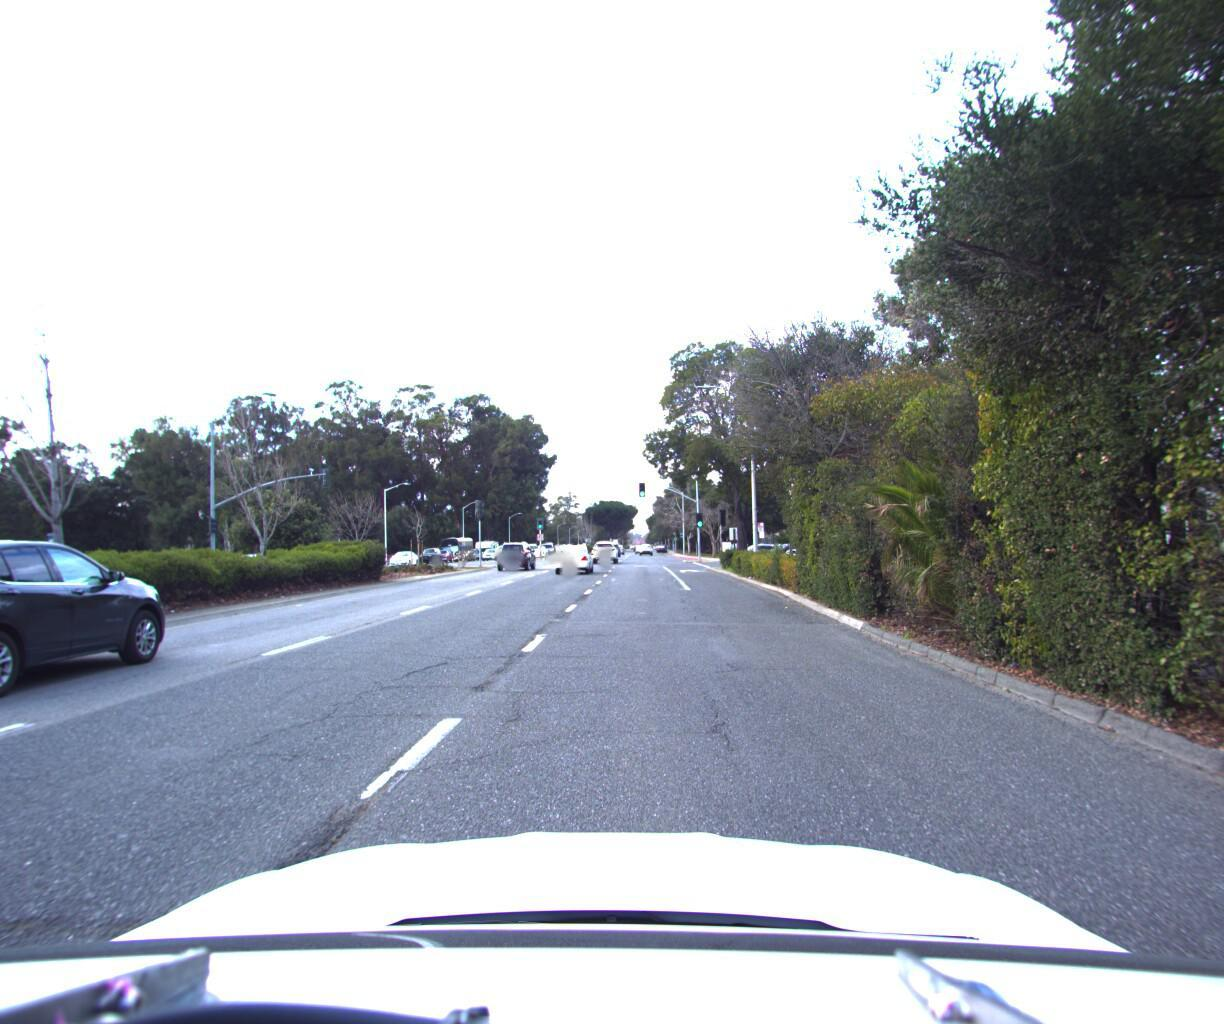car: (0, 540, 194, 721), (0, 546, 24, 638), (553, 533, 596, 570), (495, 535, 537, 567), (382, 547, 419, 568), (588, 536, 615, 560)
